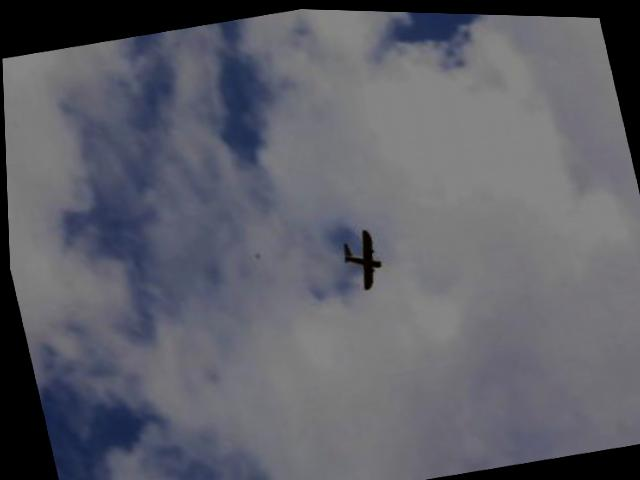uav: (336, 222, 384, 293)
